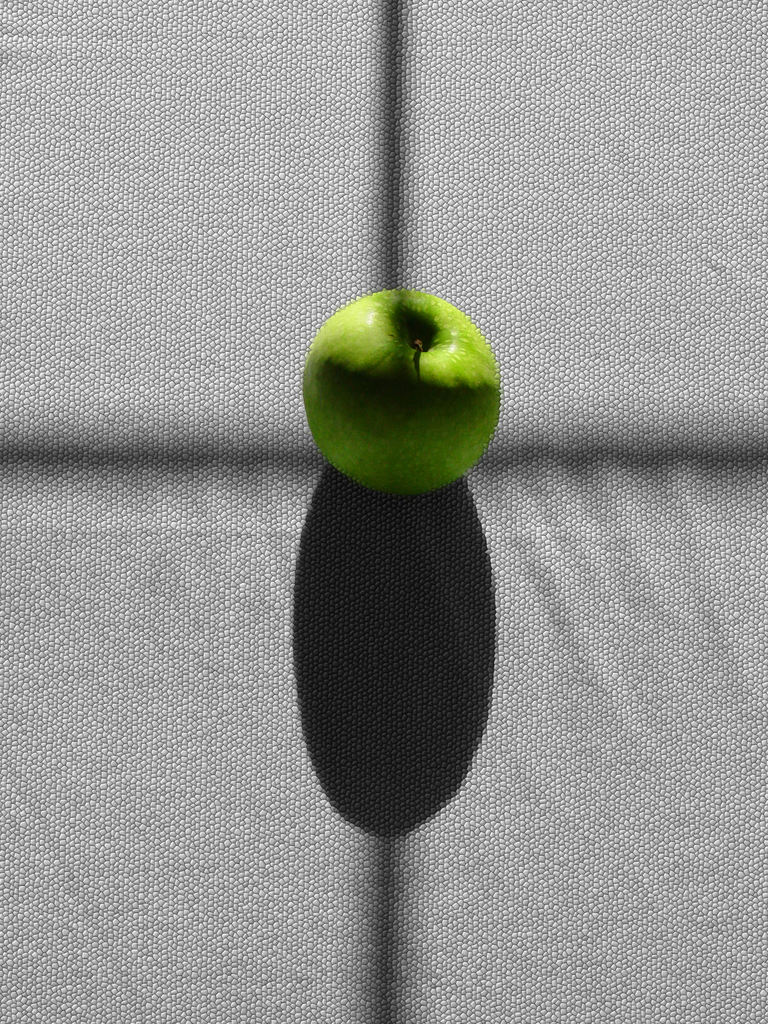Apple: (305, 276, 506, 487)
